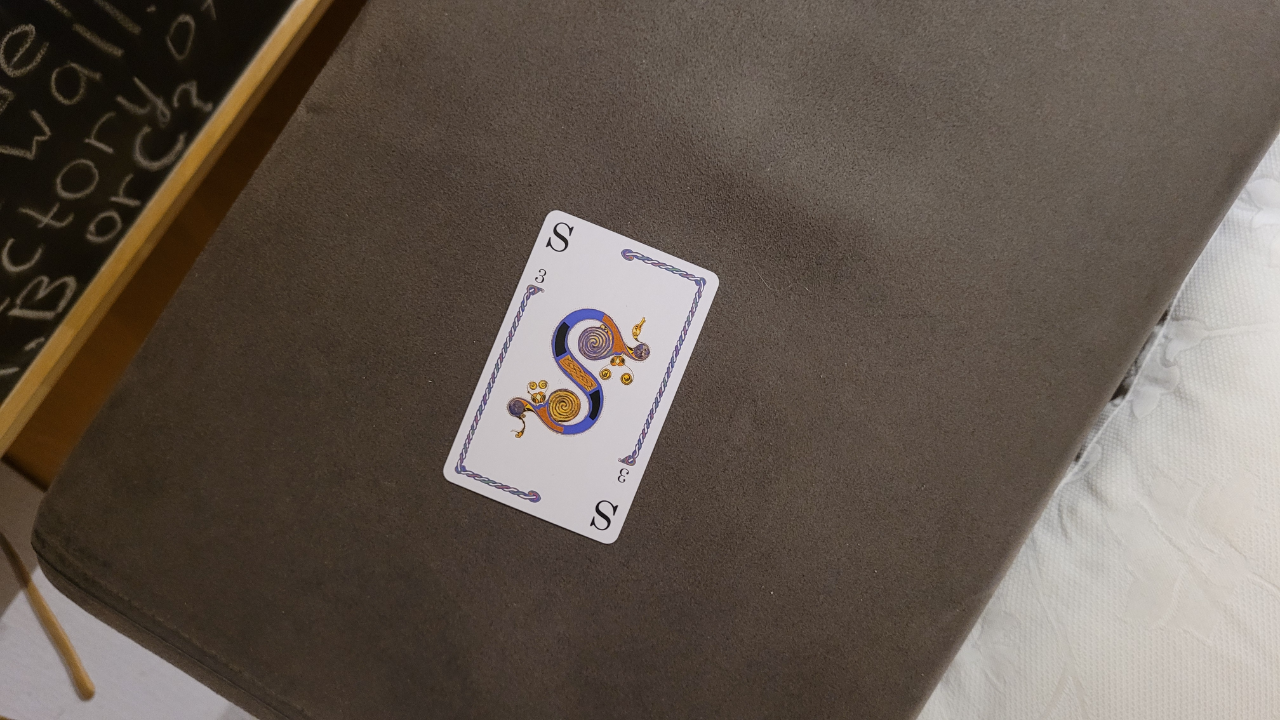quiddler_card: (433, 193, 738, 559)
